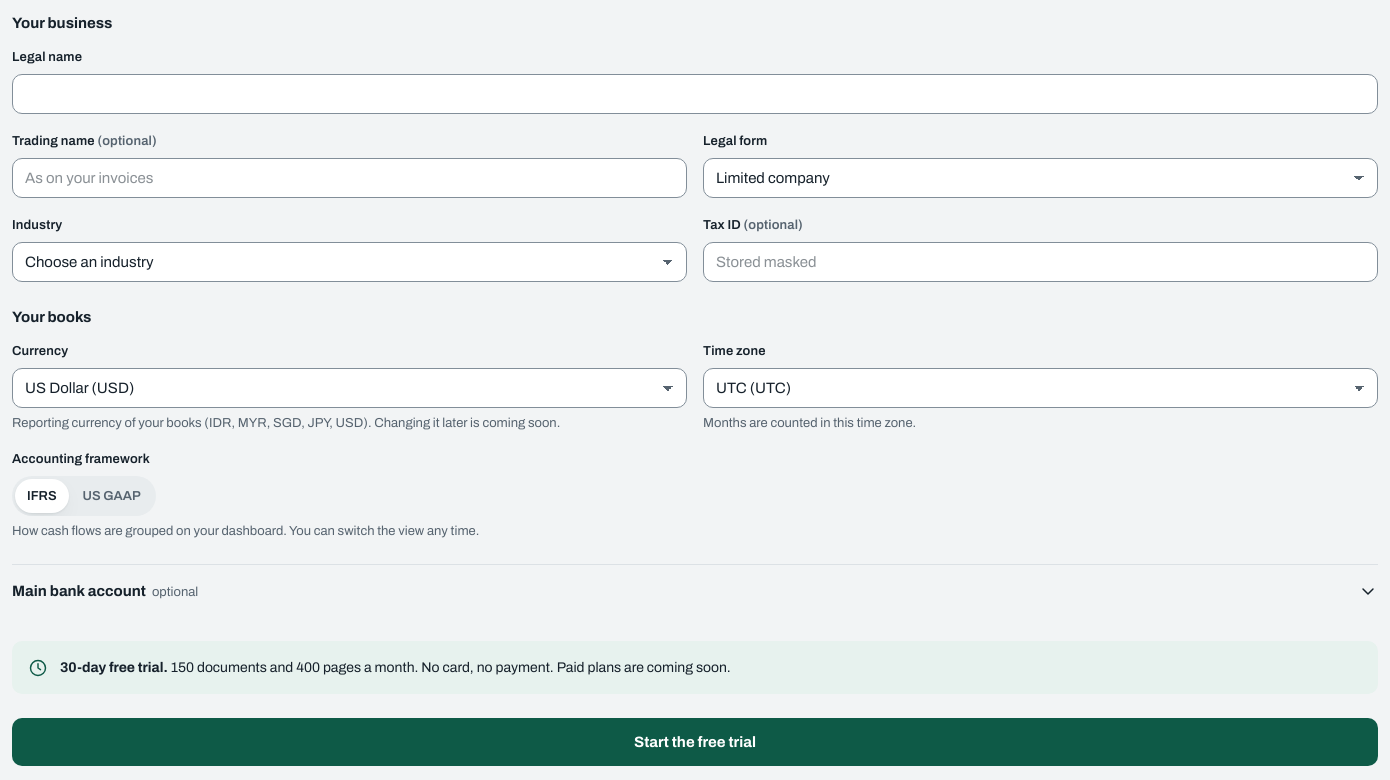
Test: CreateWorkspaceForm (AC-013-2) › says so when the session still has no workspace after the retry
Step 1. Type "Synthetic Roasters Ltd" into the field labelled "Legal name" → x=695, y=94, box [12,74,1378,114]
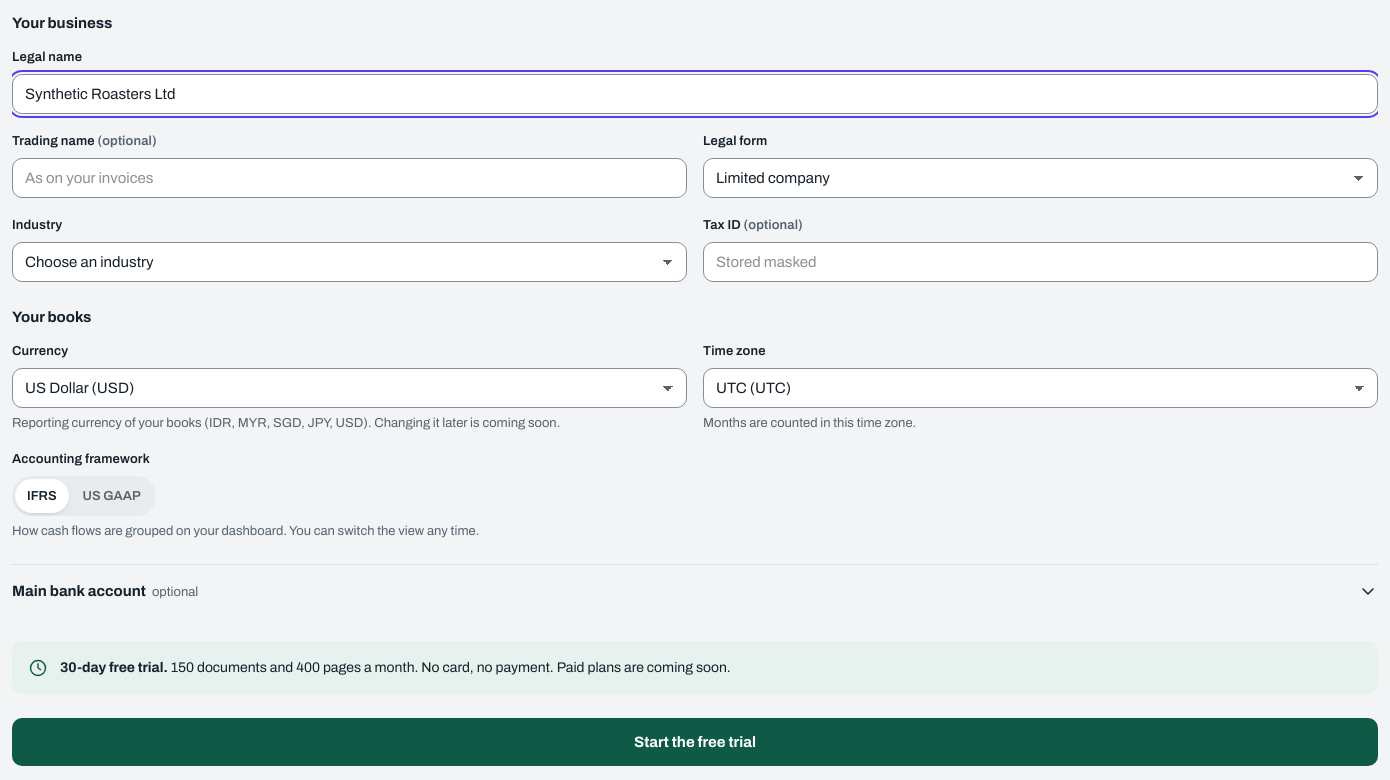
Step 2. Click the button "Start the free trial" → x=695, y=742, box [12,718,1378,766]
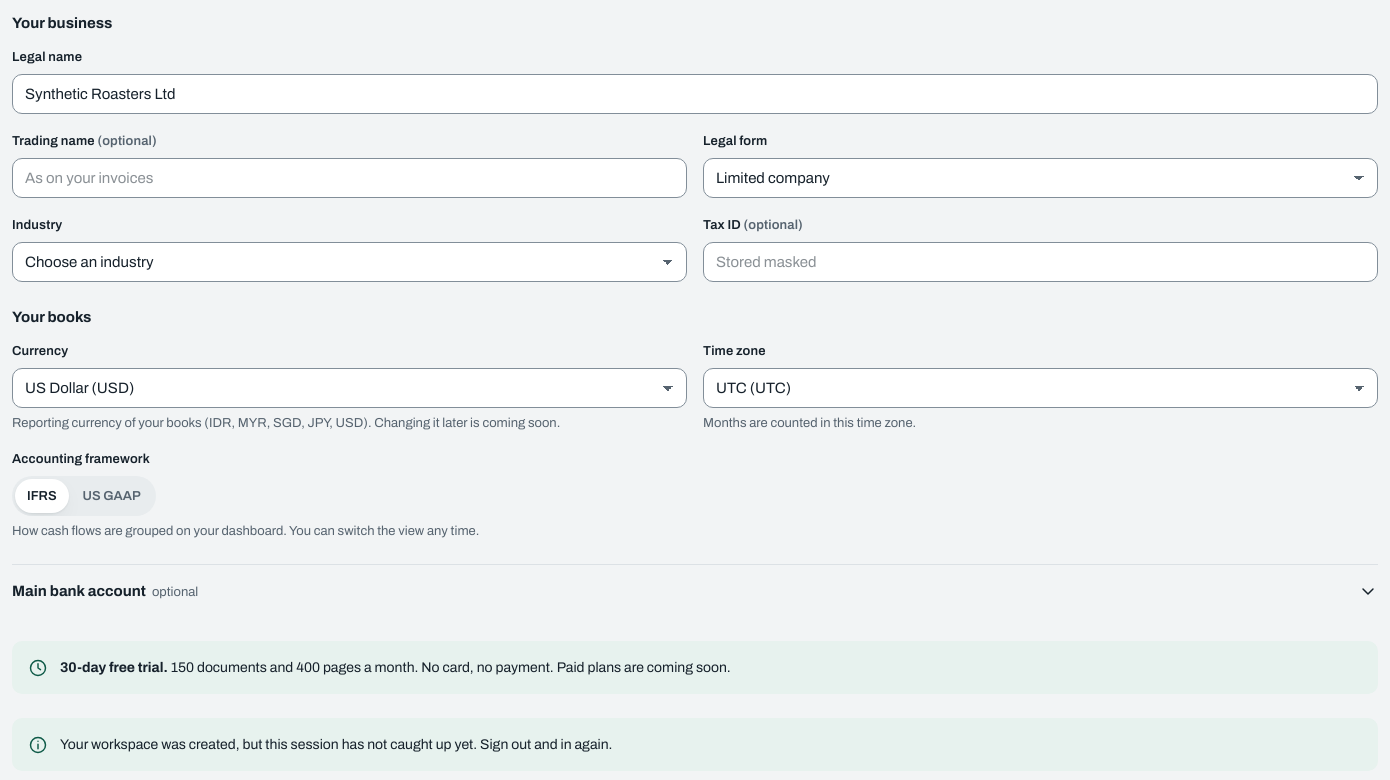
Result: the text "this session has not caught up yet" is shown at [60,737,612,752]
